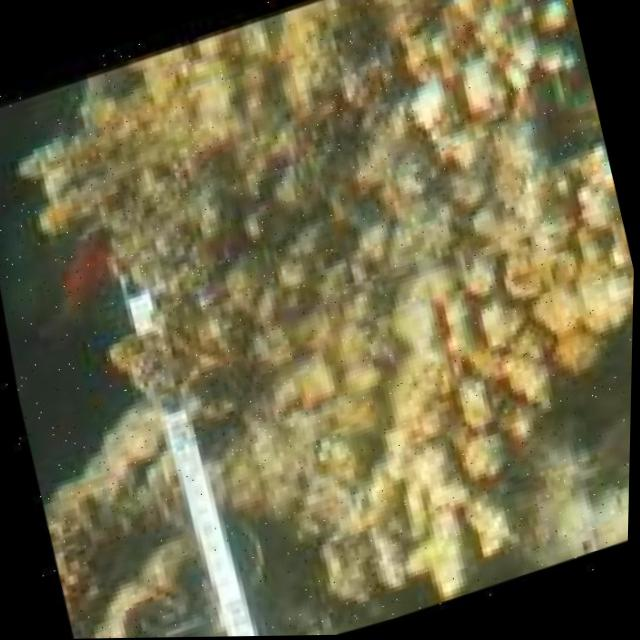Bleached Coral: (369, 0, 597, 155)
